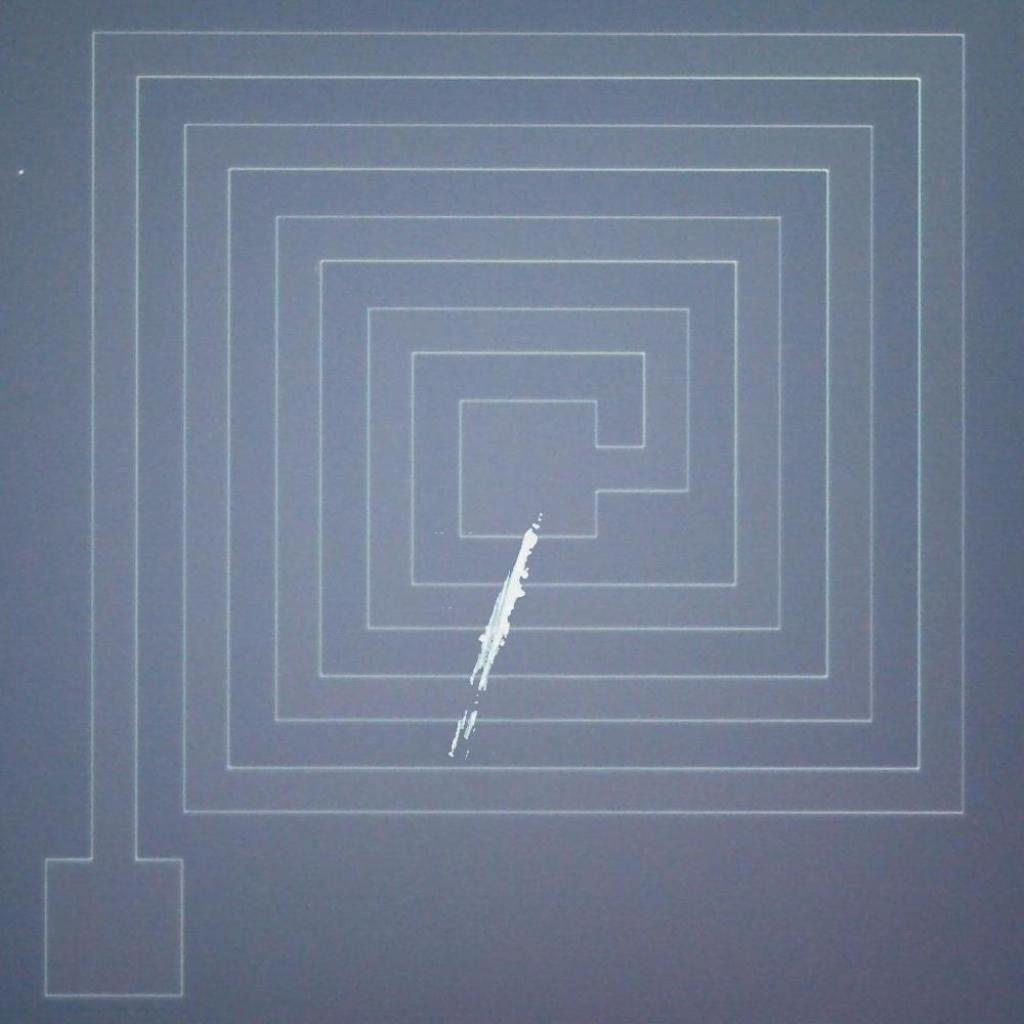dot: (12, 159, 34, 183)
scratch: (438, 509, 553, 771)
